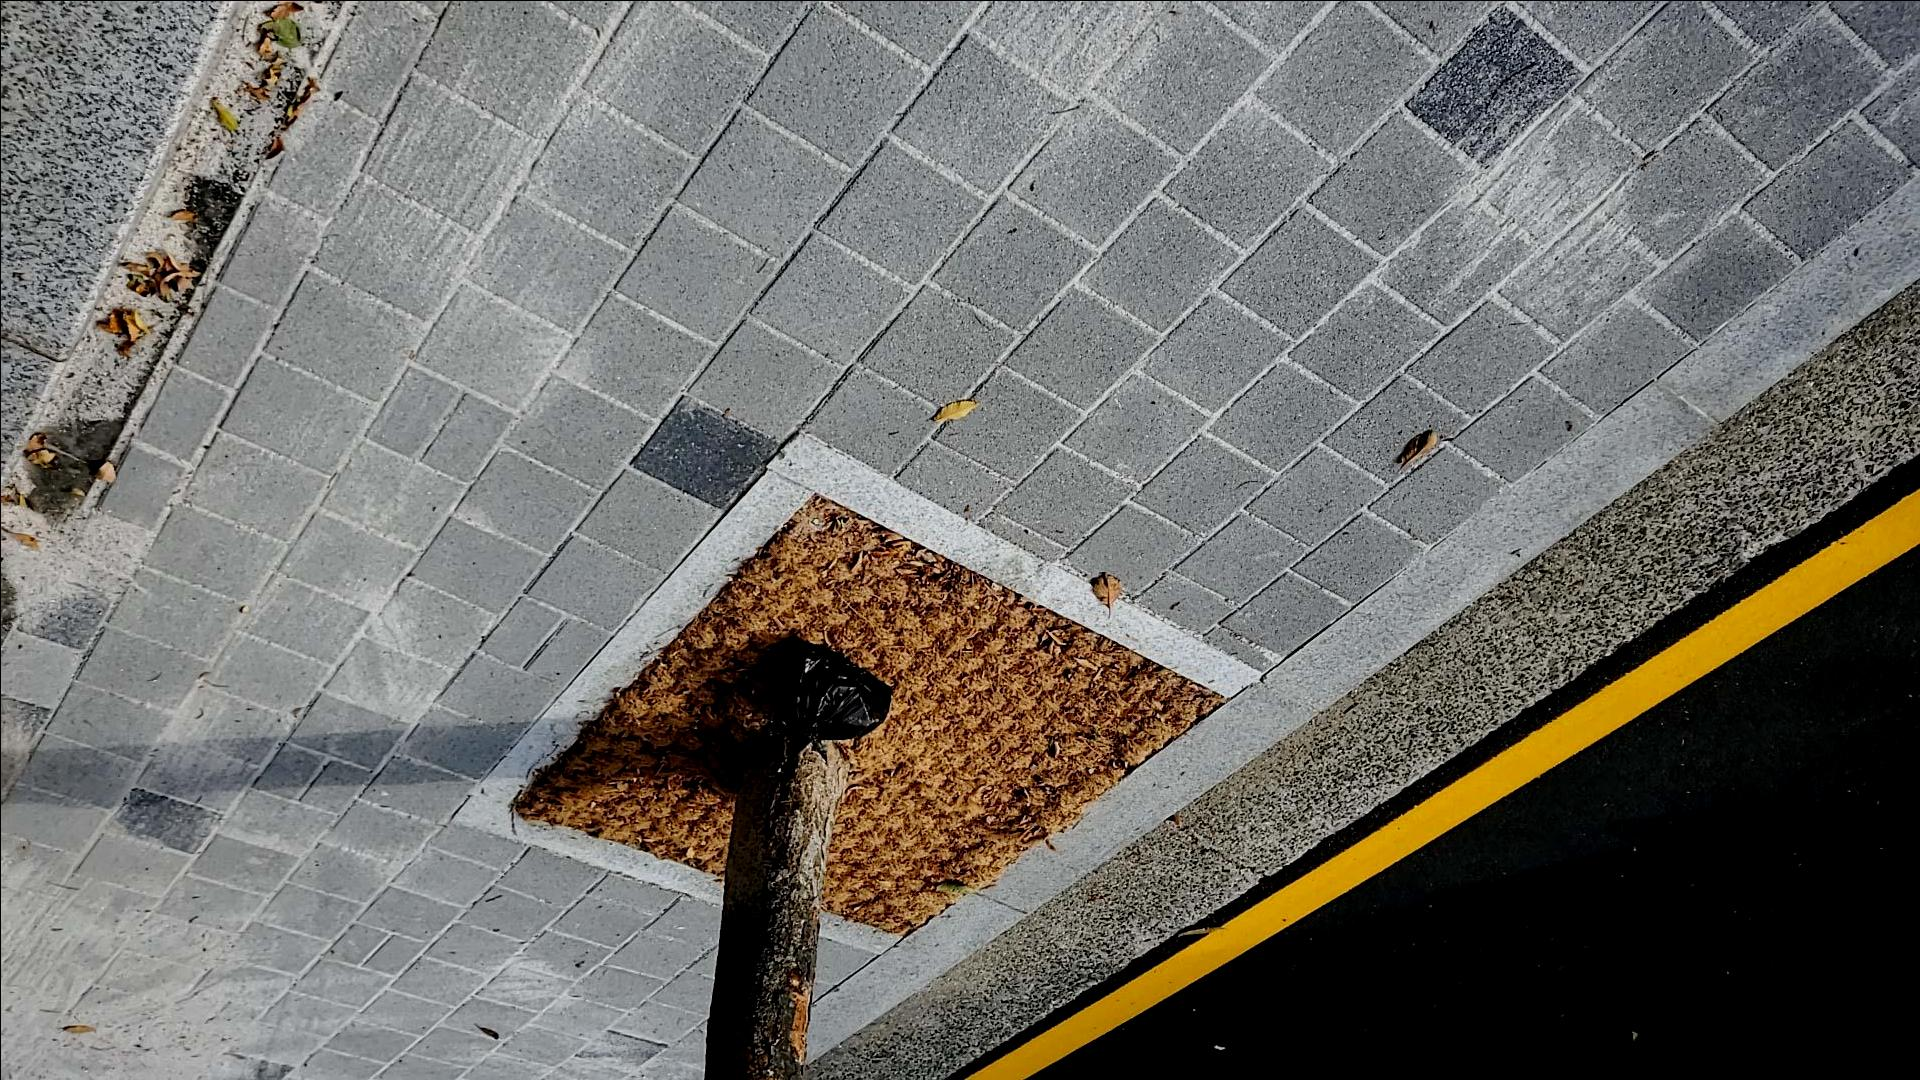black_bag: (746, 633, 899, 785)
